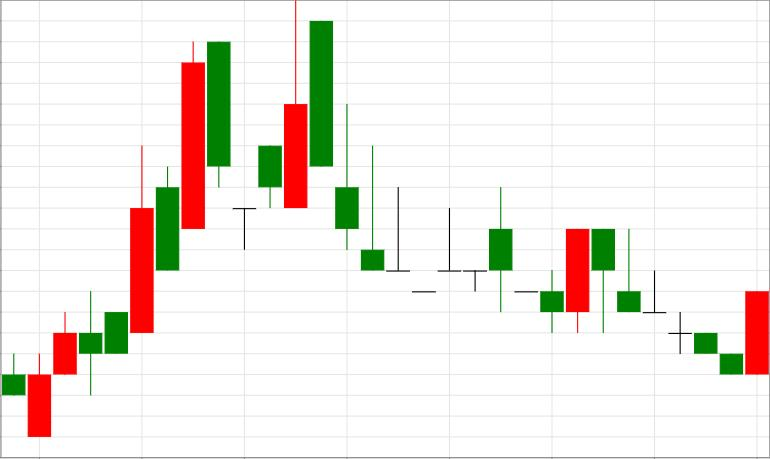bullish_engulfing_rise: (592, 228, 769, 374)
